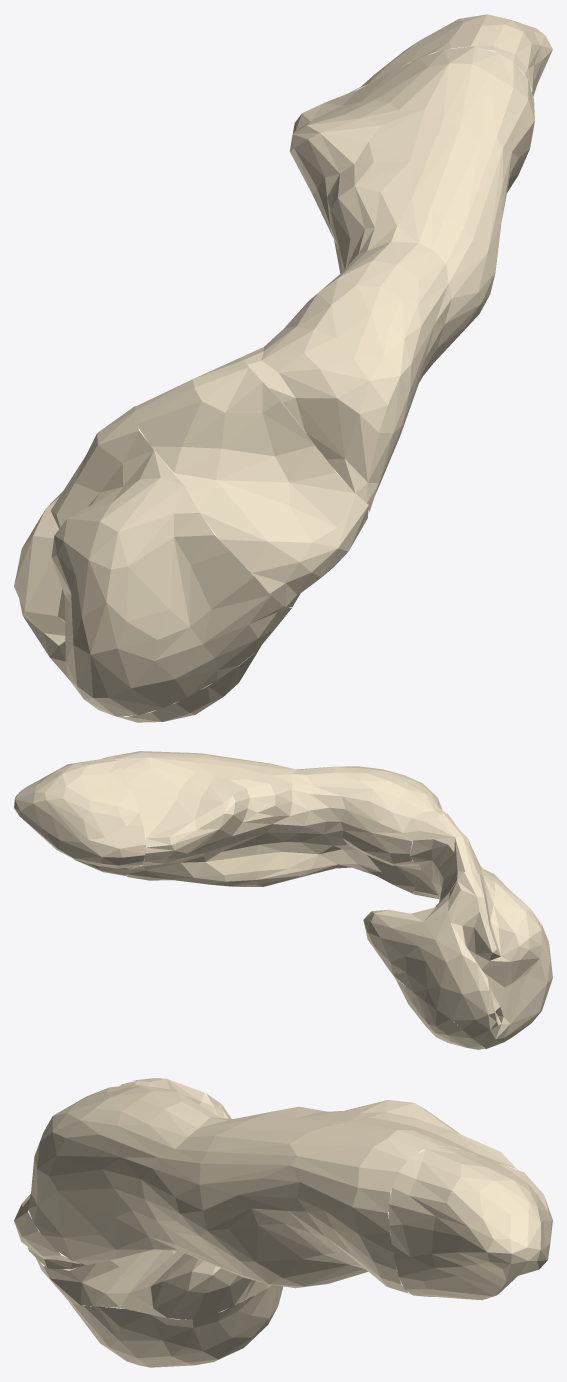
The model's file is VH_M_Pancreas_0.1.glb.
The picture shows the model from 3 angles, top to bottom: view 1: azimuth 30°, elevation 25°; view 2: azimuth 150°, elevation 25°; view 3: azimuth 270°, elevation 25°; orthographic projection. The views are drawn at different scales.
Visible parts, largest first — view 1: VH_M_body_of_pancreas, VH_M_head_of_pancreas, VH_M_neck_of_pancreas, VH_M_tail_of_pancreas, VH_M_uncinate_process_of_the_pancreas; view 2: VH_M_body_of_pancreas, VH_M_head_of_pancreas, VH_M_tail_of_pancreas, VH_M_neck_of_pancreas, VH_M_uncinate_process_of_the_pancreas; view 3: VH_M_body_of_pancreas, VH_M_tail_of_pancreas, VH_M_head_of_pancreas, VH_M_uncinate_process_of_the_pancreas, VH_M_neck_of_pancreas.
Boxes of the visible parts, x1,y1,x2,y2 form: VH_M_body_of_pancreas: (241,46,534,511); VH_M_head_of_pancreas: (14,406,291,716); VH_M_neck_of_pancreas: (134,357,368,607); VH_M_tail_of_pancreas: (350,14,552,96); VH_M_uncinate_process_of_the_pancreas: (112,645,261,722); VH_M_body_of_pancreas: (112,751,445,893); VH_M_head_of_pancreas: (363,871,552,1048); VH_M_tail_of_pancreas: (14,756,146,876); VH_M_neck_of_pancreas: (409,813,500,902); VH_M_uncinate_process_of_the_pancreas: (392,974,484,1049); VH_M_body_of_pancreas: (28,1080,517,1294); VH_M_tail_of_pancreas: (388,1146,552,1300); VH_M_head_of_pancreas: (36,1093,272,1319); VH_M_uncinate_process_of_the_pancreas: (69,1285,283,1367); VH_M_neck_of_pancreas: (14,1078,214,1269).
Size of the model in its own units: 0.1118 by 0.0722 by 0.0839.
